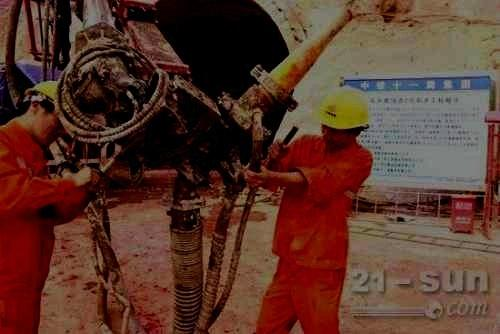helmet: (317, 84, 371, 147), (19, 80, 64, 145)
